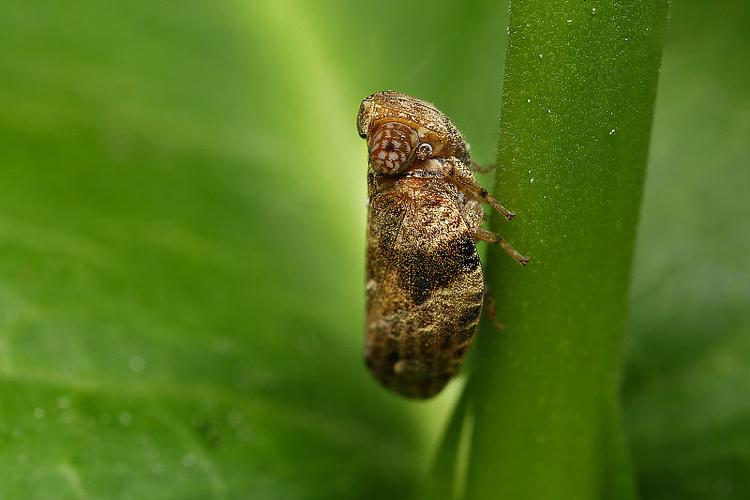Delphacidae: (355, 88, 530, 398)
